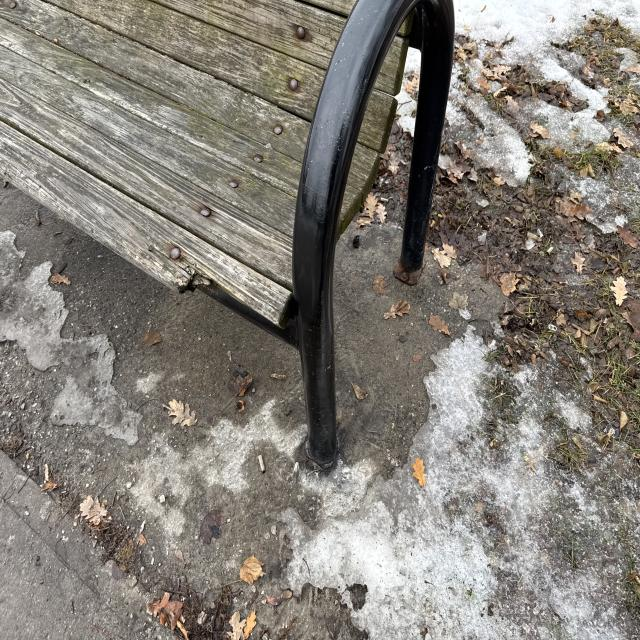Bench: (70, 6, 471, 445)
